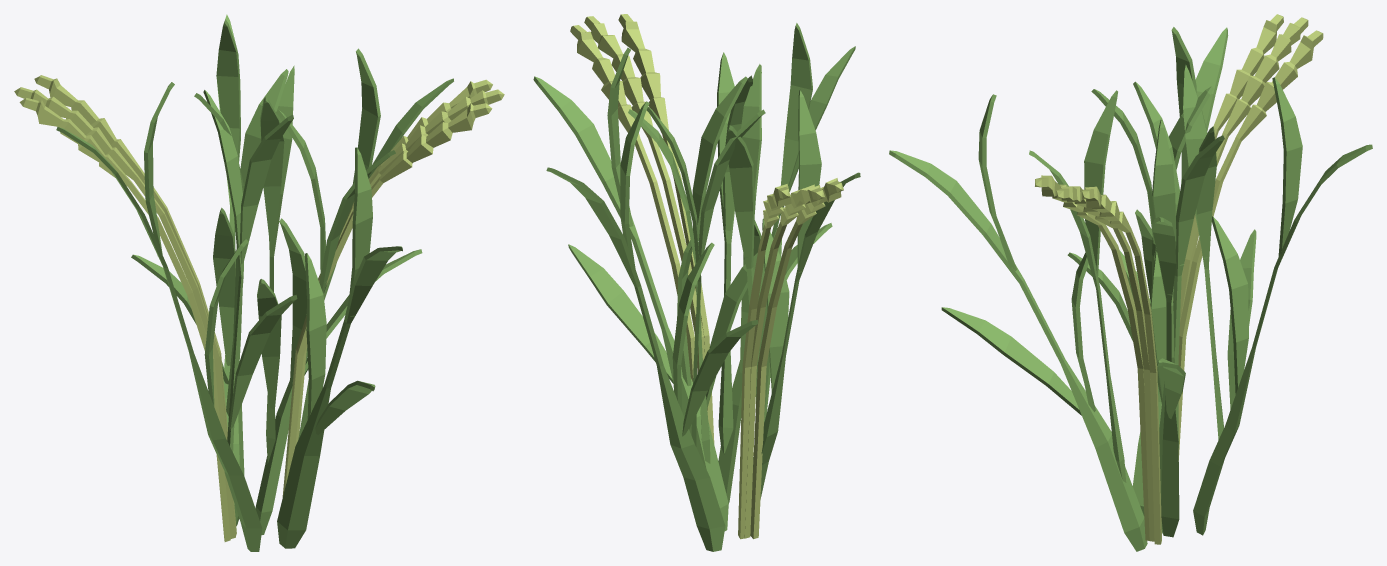
The model's file is Rice_4.glb.
3 views of the same model, side by side, from view 1: azimuth 30°, elevation 25°; view 2: azimuth 150°, elevation 25°; view 3: azimuth 270°, elevation 25° (orthographic).
Parts seen in each view (by area): view 1: Rice_4; view 2: Rice_4; view 3: Rice_4.
Part boxes in pixels (x1,y1,x2,y2): Rice_4: (14,14,504,551); Rice_4: (533,14,860,551); Rice_4: (889,14,1372,551).
Size of the model in its own units: 0.7786 by 0.9535 by 0.8808.
